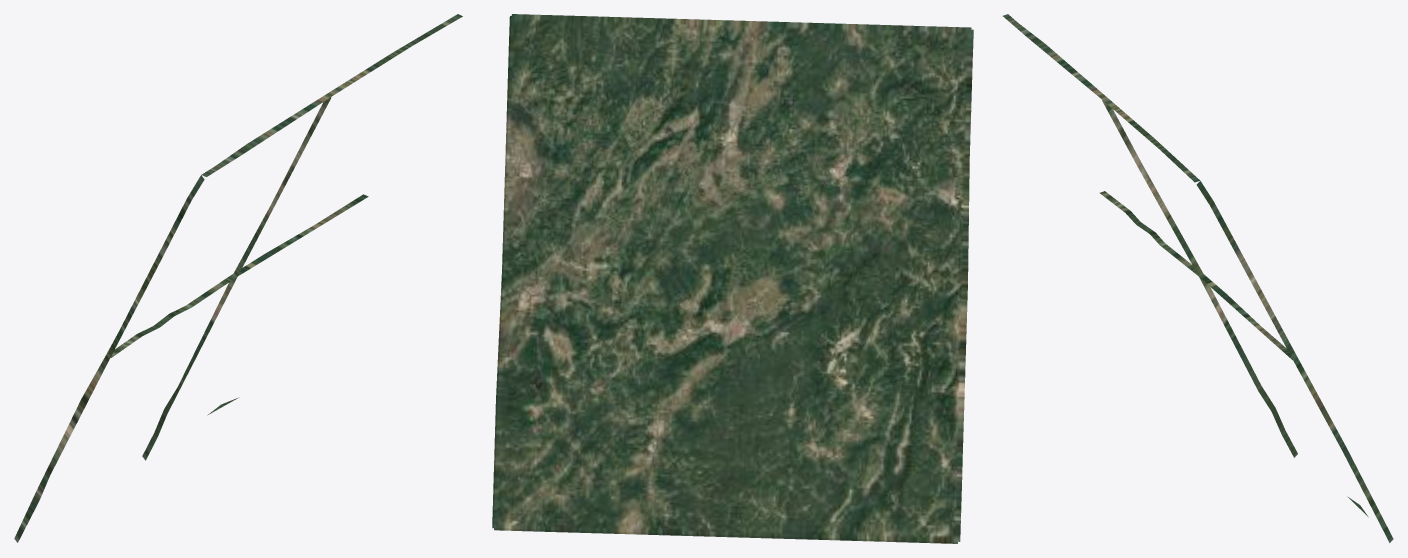
3 views of the same model, side by side, from view 1: azimuth 30°, elevation 25°; view 2: azimuth 150°, elevation 25°; view 3: azimuth 270°, elevation 25° (orthographic). The views are drawn at different scales.
Bounding box in the file's own units: 158539 × 142388 × 125564.
1 material, 1 textured.
